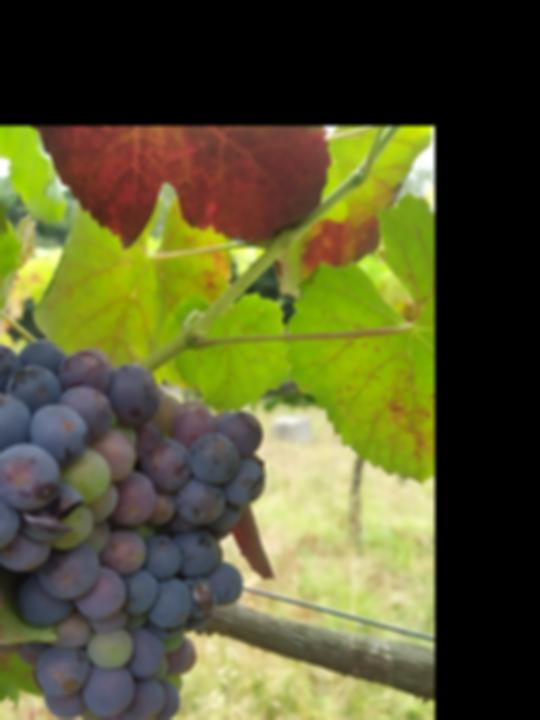grape: (0, 336, 273, 720)
